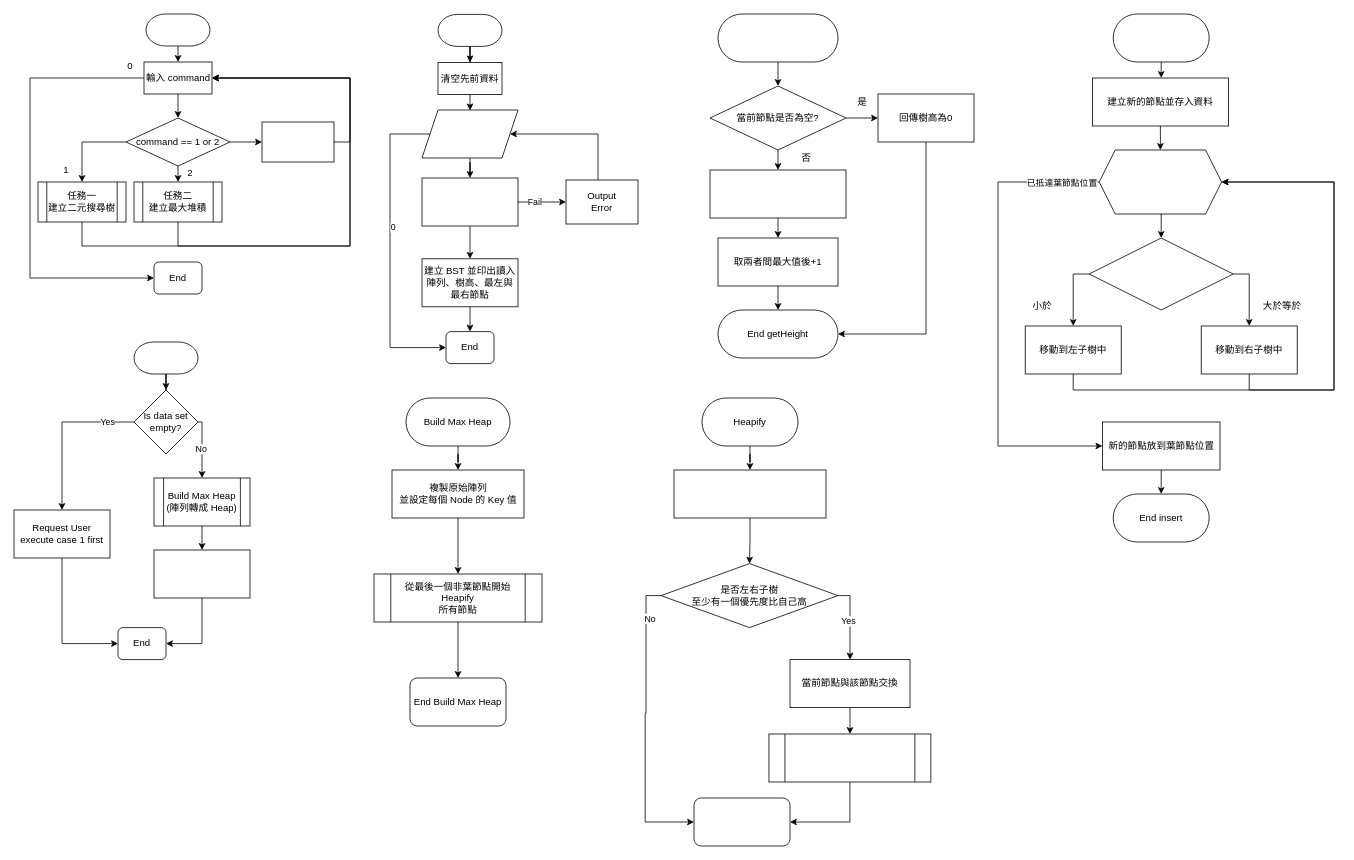
This 1354x860 diagram has some shape labels left out. Each missing label, with the centre of its shape:
"End Heapify" goes at point 741,821.
"getHeight" goes at point 777,37.
"insert" goes at point 1160,37.
"Output Command Not Exist" goes at point 297,141.
"start main" goes at point 177,29.
"任務一" goes at point 469,30.
"任務二" goes at point 165,357.
"印出 Heap 內容、高度、最左最右節點內容" goes at point 201,573.
"取得左右子樹高度" goes at point 777,193.
"對交換後的當前節點與子節點再進行一次 Heapify" goes at point 849,757.
"插入的數據大於等於 或小於目前數據?" goes at point 1160,273.
"檢查左右子樹優先度最高的 哪一個比當前節點高" goes at point 749,493.
"當目前節點非葉節點 (不為空)" goes at point 1160,181.
"讀入檔案" goes at point 469,201.
"輸入檔名" goes at point 469,133.
